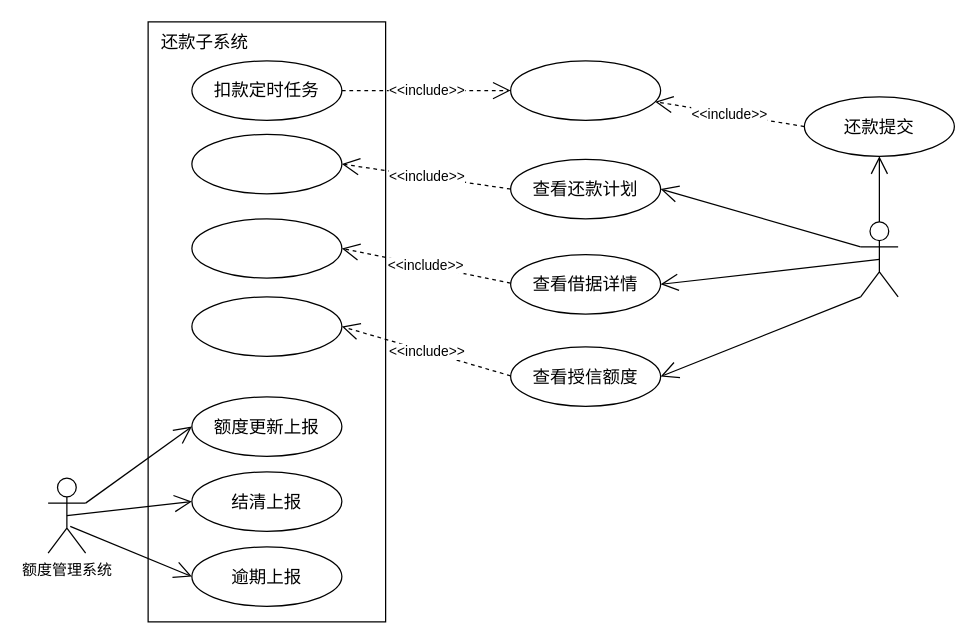
The diagram is 976 pixels wide and 644 high, and some of its shapes have lost their labels. Each missing label, with the centre of its shape:
"借款人" belongs at point (878, 259).
"更新借据详情" belongs at point (266, 248).
"更新授信额度" belongs at point (266, 326).
"更新还款计划" belongs at point (266, 163).
"还款结果通知" belongs at point (585, 90).
